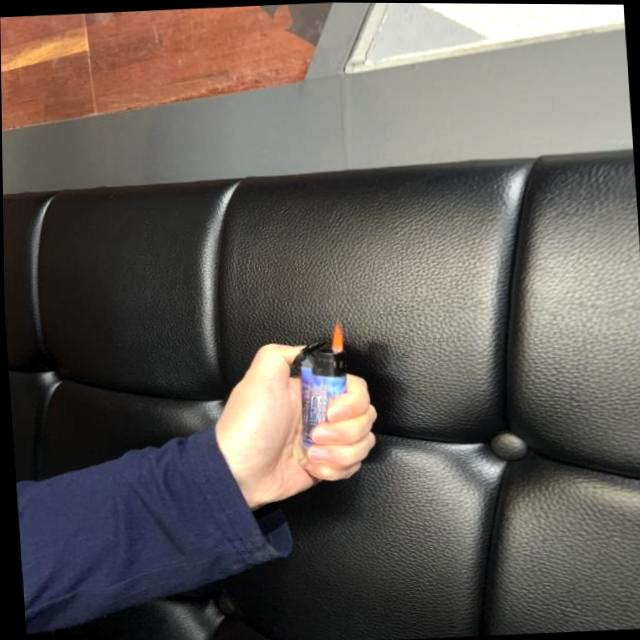fire: (326, 319, 342, 353)
